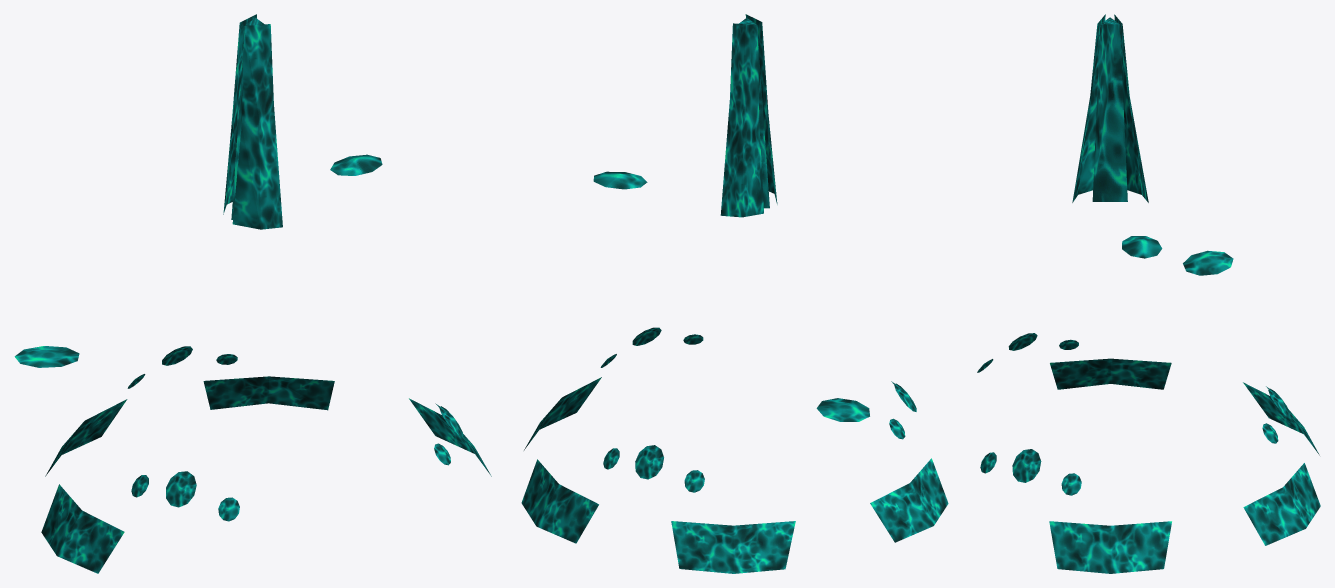
The model's file is eaw_moncalBuilding.glb.
The picture shows the model from 3 angles, left to right: view 1: azimuth 30°, elevation 25°; view 2: azimuth 150°, elevation 25°; view 3: azimuth 270°, elevation 25°; orthographic projection. The views are drawn at different scales.
Visible parts, largest first — view 1: energy_ALT0_0; view 2: energy_ALT0_0; view 3: energy_ALT0_0.
Part boxes in pixels (bbox=[...]): energy_ALT0_0: bbox=[14, 14, 491, 573]; energy_ALT0_0: bbox=[521, 14, 948, 573]; energy_ALT0_0: bbox=[977, 14, 1320, 573].
Size of the model in its own units: 29.63 by 33.08 by 22.64.
1 material, 1 textured.
